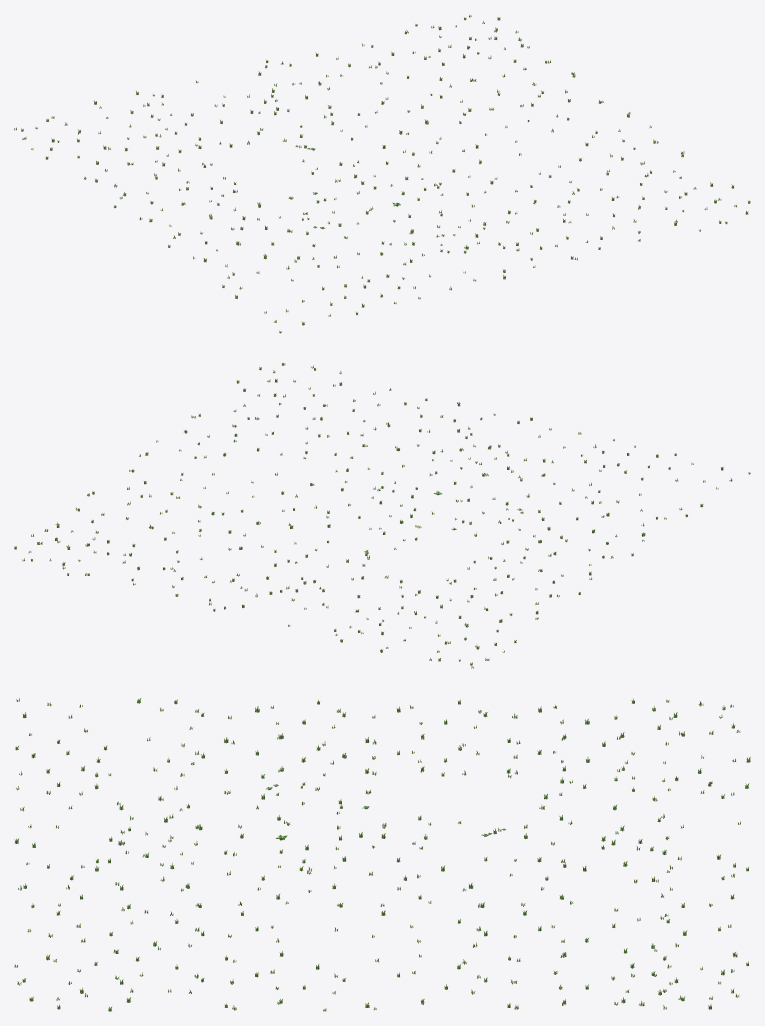
The model's file is Rumput.fbx.
3 views of the same model, one above another, from view 1: azimuth 30°, elevation 25°; view 2: azimuth 150°, elevation 25°; view 3: azimuth 270°, elevation 25° (orthographic). The views are drawn at different scales.
Visible parts, largest first — view 1: Rumput; view 2: Rumput; view 3: Rumput.
Part boxes in pixels (x1,y1,x2,y2): Rumput: (14, 15, 750, 333); Rumput: (14, 363, 750, 668); Rumput: (14, 698, 750, 1011).
Bounding box in the file's own units: 7464 × 73.41 × 7467.
